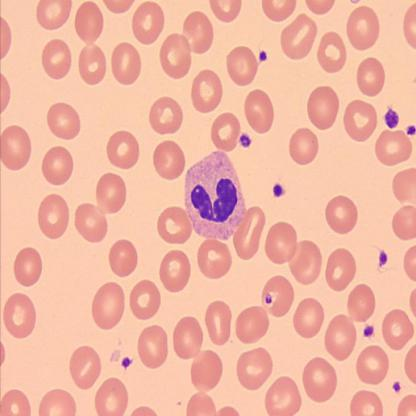Band Neutrophil: (182, 148, 248, 242)
